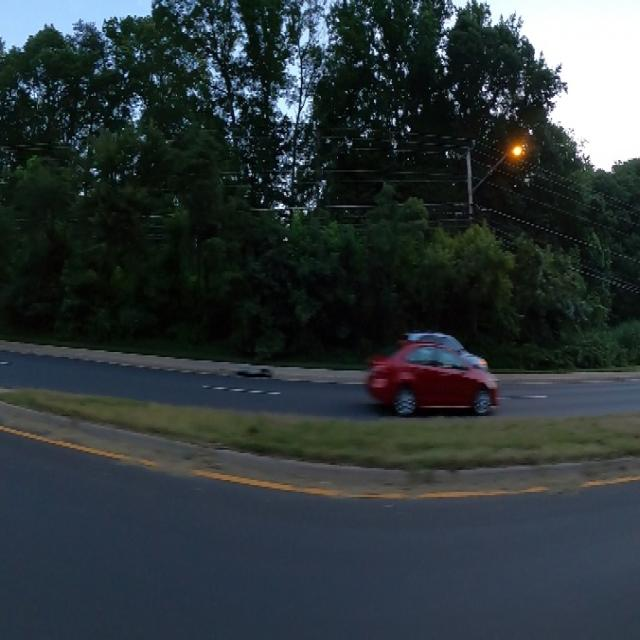cars: (366, 337, 496, 428), (397, 318, 491, 375)
